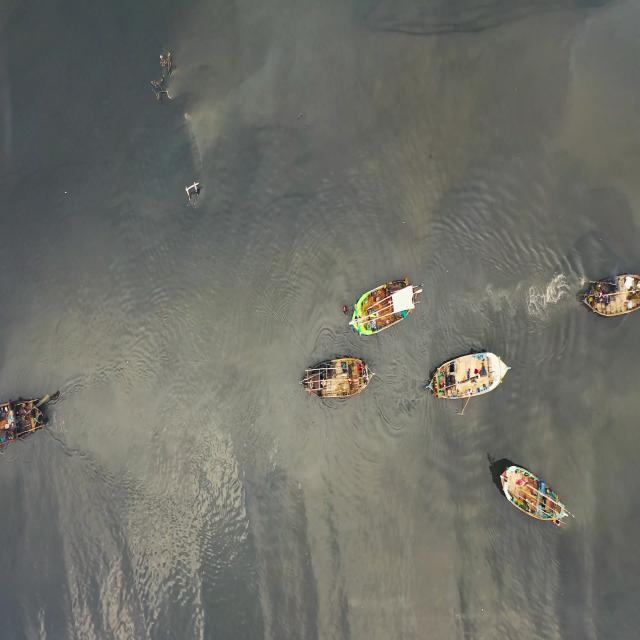ship: (499, 458, 574, 536), (351, 272, 426, 336), (295, 355, 377, 400), (426, 356, 511, 395), (582, 261, 638, 318), (2, 384, 56, 438)
